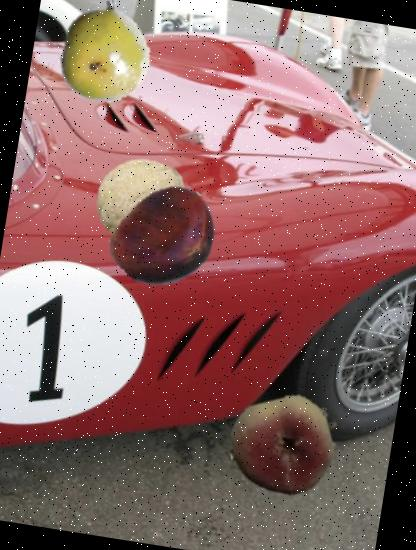Cantaloupe: (90, 147, 194, 251)
Chestnut: (105, 175, 230, 300)
Maracuja: (47, 0, 161, 110)
Peach: (222, 387, 342, 508)
